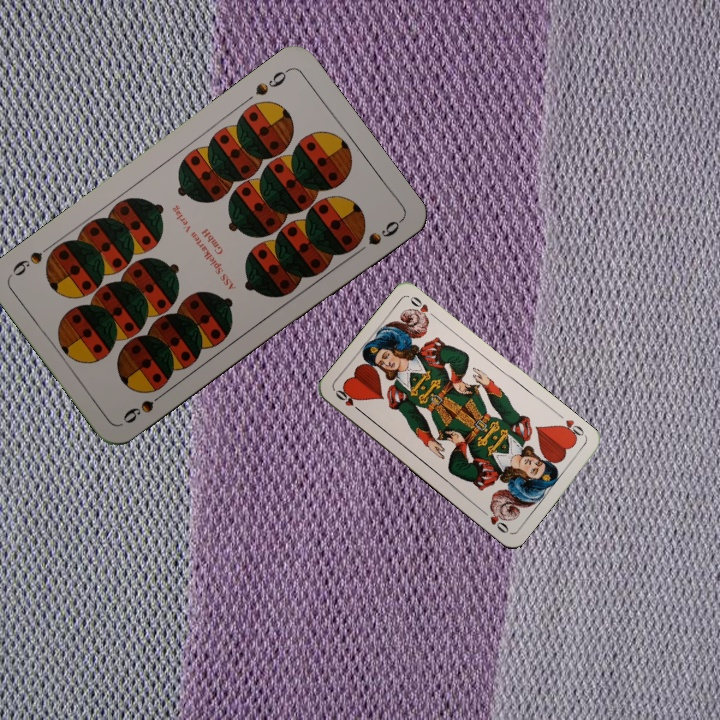HO: (331, 386, 366, 416), (555, 415, 589, 443)
S9: (118, 386, 170, 427), (251, 64, 292, 99)
